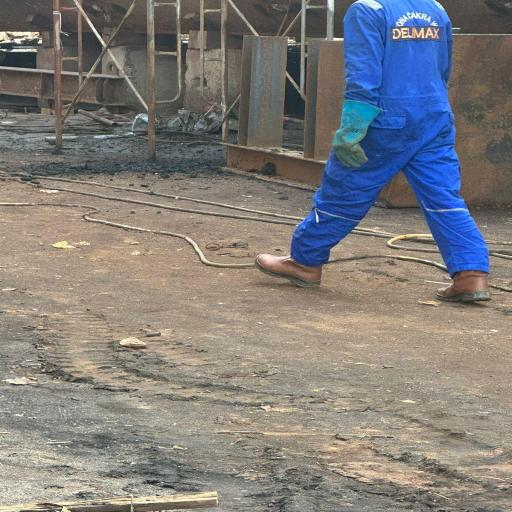safety_shoe: (250, 249, 324, 291), (436, 270, 495, 304)
